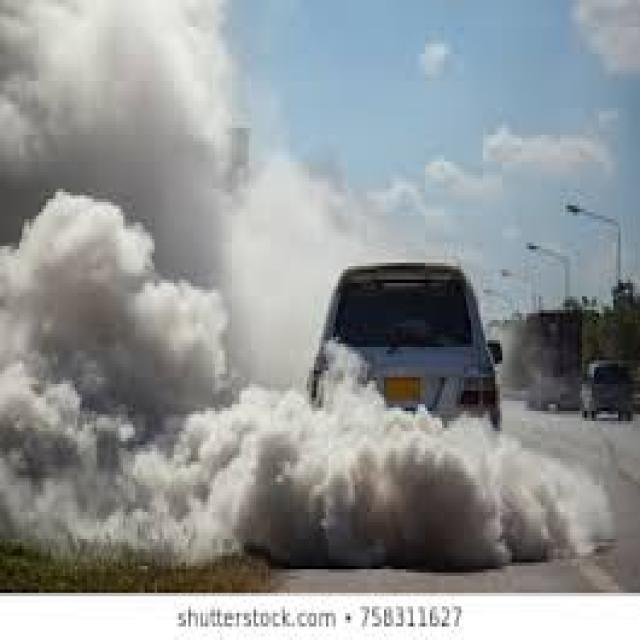Smoke: (0, 0, 613, 565)
